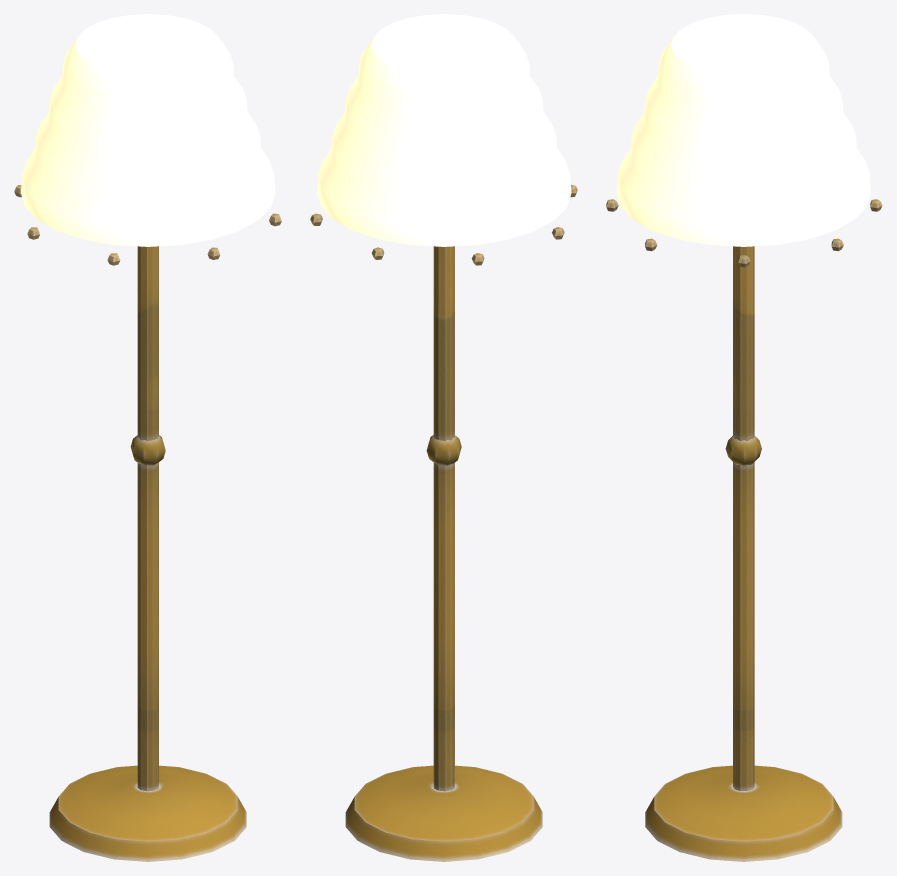
File: floor_lamp.glb
The picture shows the model from 3 angles, left to right: view 1: azimuth 30°, elevation 25°; view 2: azimuth 150°, elevation 25°; view 3: azimuth 270°, elevation 25°; orthographic projection.
Parts seen in each view (by area): view 1: SM_FloorLamp; view 2: SM_FloorLamp; view 3: SM_FloorLamp.
Boxes of the visible parts, x1=… form: SM_FloorLamp: x1=14, y1=14, x2=281, y2=861; SM_FloorLamp: x1=310, y1=14, x2=577, y2=861; SM_FloorLamp: x1=606, y1=14, x2=882, y2=861.
Size of what is drawn, in the model's own units: 0.6085 by 1.88 by 0.6071.
Materials: 3 (1 with a texture image).
